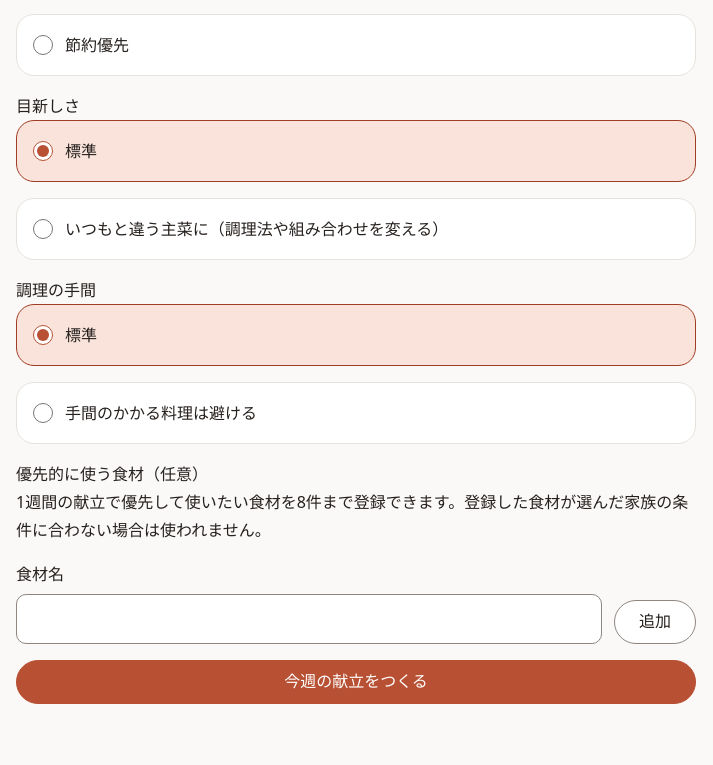
WeeklyPlanFormPage › does not POST when storing new request metadata fails
The width and height of the screenshot is (713, 765).
(page scrolled)
Click the button "今週の献立をつくる": (356, 682) [16,660,696,704]
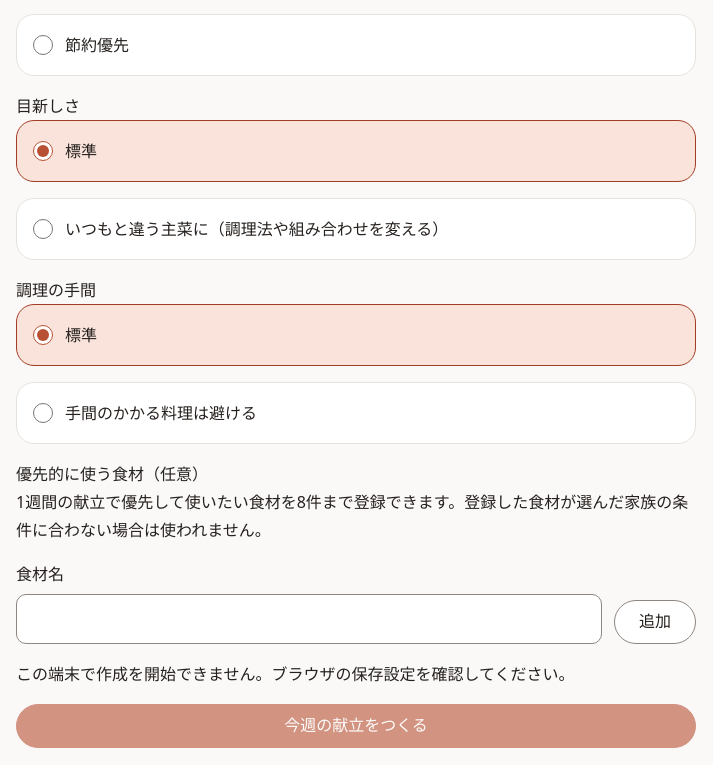
Result: the message shows "この端末で作成を開始できません" at [16,663,575,685]
